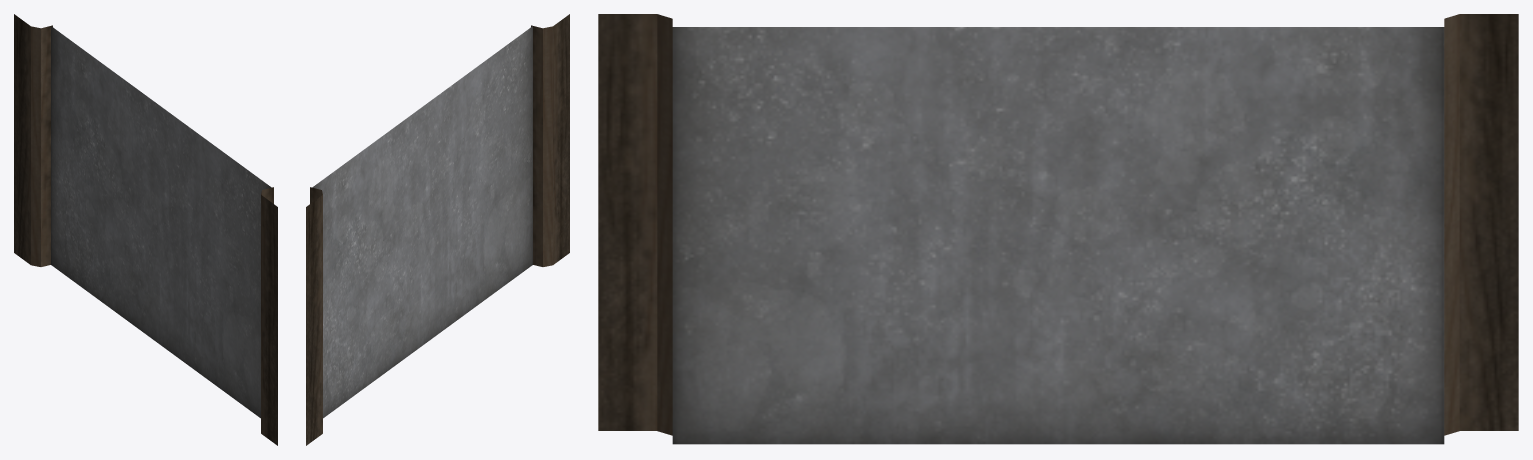
Rendered from Wall Interior Top 2x1 Plaster B.fbx.
3 views of the same model, side by side, from view 1: azimuth 30°, elevation 25°; view 2: azimuth 150°, elevation 25°; view 3: azimuth 270°, elevation 25° (orthographic). The views are drawn at different scales.
Visible parts, largest first — view 1: Wall Interior Top 2x1 Plaster B; view 2: Wall Interior Top 2x1 Plaster B; view 3: Wall Interior Top 2x1 Plaster B.
Boxes of the visible parts, <box> form: Wall Interior Top 2x1 Plaster B: <box>14,14,277,445</box>; Wall Interior Top 2x1 Plaster B: <box>306,14,569,445</box>; Wall Interior Top 2x1 Plaster B: <box>598,14,1518,444</box>.
Bounding box in the file's own units: 0.0765 × 1 × 2.
